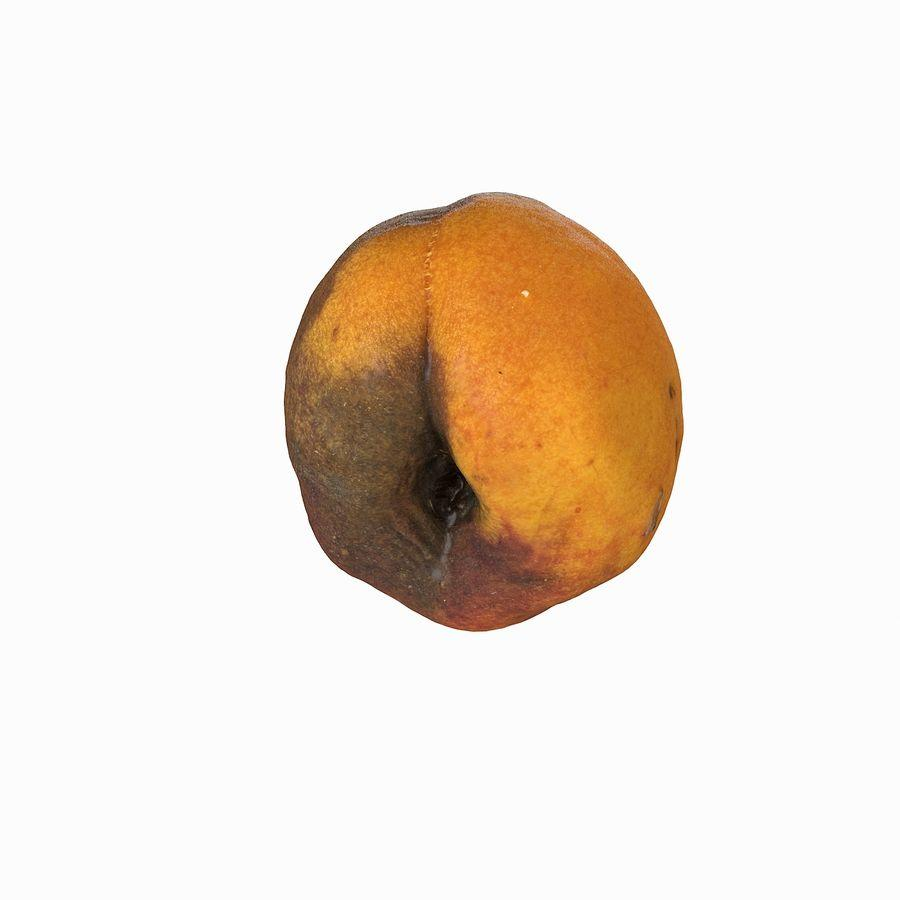Peach Rotten: (285, 193, 682, 631)
